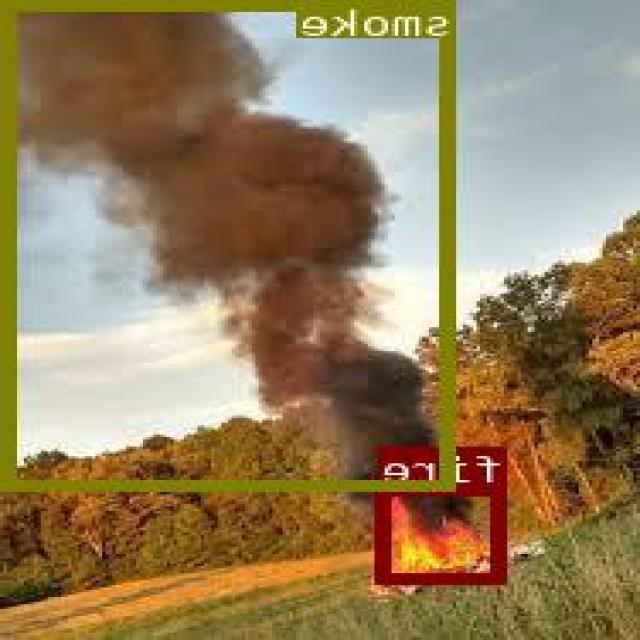fire: (381, 484, 509, 582)
smoke: (7, 0, 460, 487)
